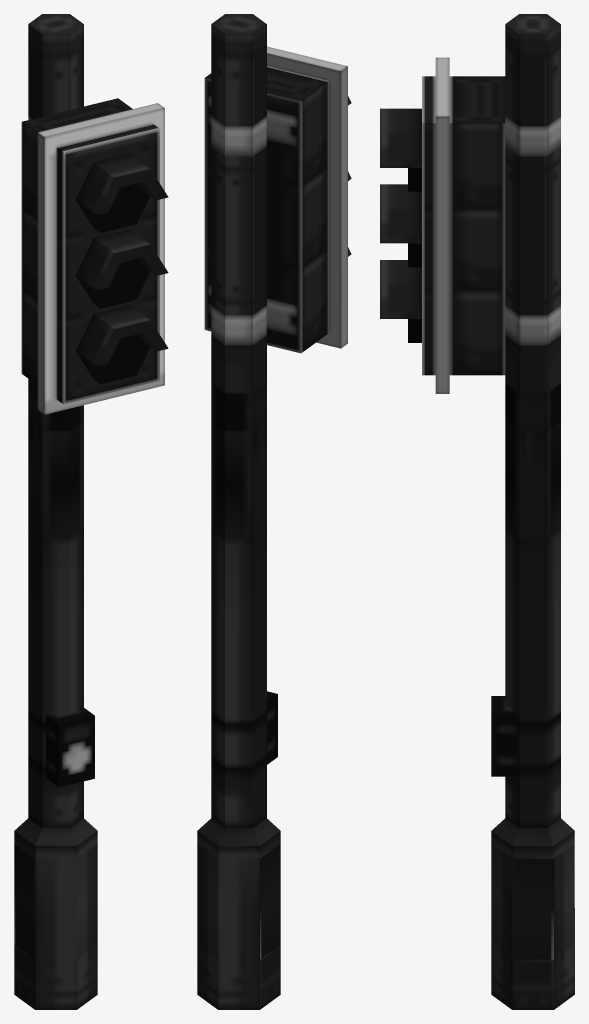
Rendered from TrafficLight_Single.fbx.
3 renders of one model, left to right at view 1: azimuth 30°, elevation 25°; view 2: azimuth 150°, elevation 25°; view 3: azimuth 270°, elevation 25°, orthographic.
Visible parts, largest first — view 1: TrafficLight_Single; view 2: TrafficLight_Single; view 3: TrafficLight_Single.
Boxes of the visible parts, bbox=[...] form: TrafficLight_Single: bbox=[14, 14, 168, 1009]; TrafficLight_Single: bbox=[197, 14, 351, 1009]; TrafficLight_Single: bbox=[380, 14, 574, 1009].
Size of the model in its own units: 5 by 38.5 by 7.
